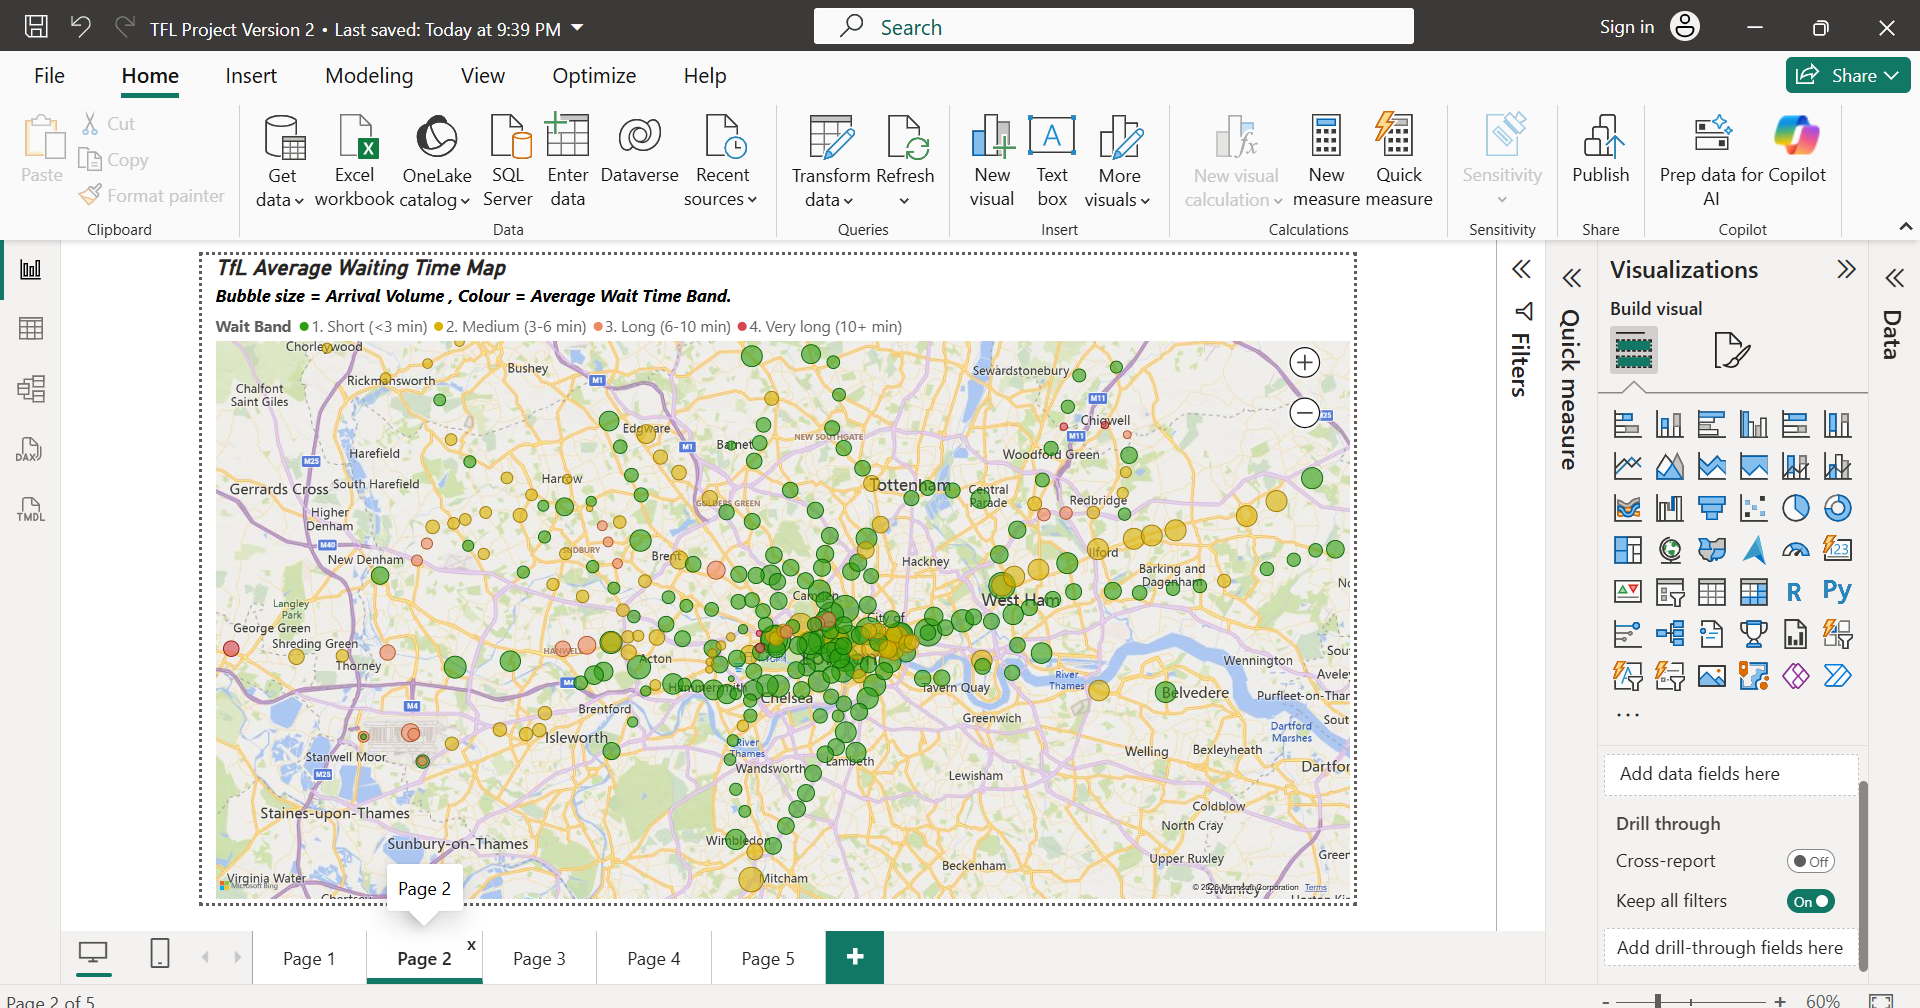

The page's visual inventory and layout, read from the dashboard file:
{"tool":"powerbi","page":{"name":"Page 2","canvas":[1280,720],"ordinal":1},"visuals":[{"type":"map","title":"TfL Average Waiting Time Map","fields":{"Y":["stations.lat"],"X":["stations.lon"],"Size":["Sum(arrivals_summary.total_arrivals)"],"Series":["station_wait.Wait Band"]},"box":[10,0,1270,720],"z":0}]}

Visuals, with their boxes on the page's 1280x720 design canvas (x1, y1, x2, y2). These are canvas units, not pixel positions in the 1920x1008 screenshot, which may show the page scaled, cropped or inside an application window:
"TfL Average Waiting Time Map" map: 10, 0, 1280, 720
